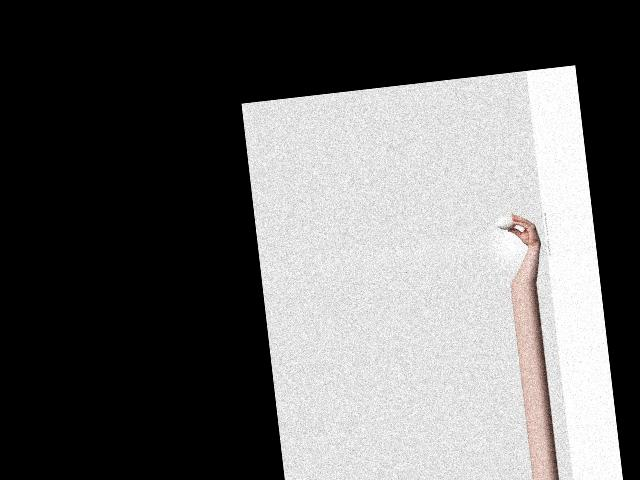egg: (495, 215, 517, 231)
